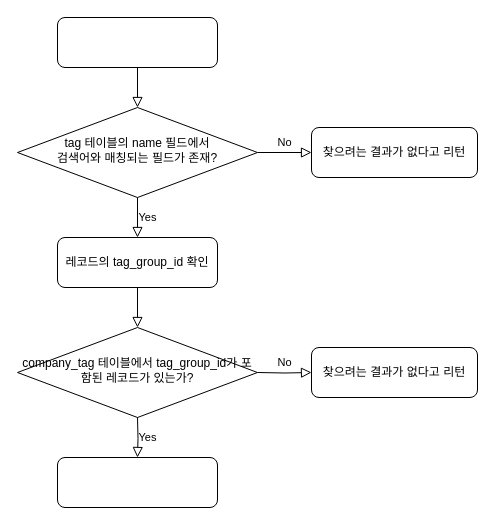
This 495x525 diagram has some shape labels left out. The centre of each missing label's shape, as x and y in pixels:
검색어 입력 받음: the point at 137,42
레코드 리스트 리턴: the point at 137,482
